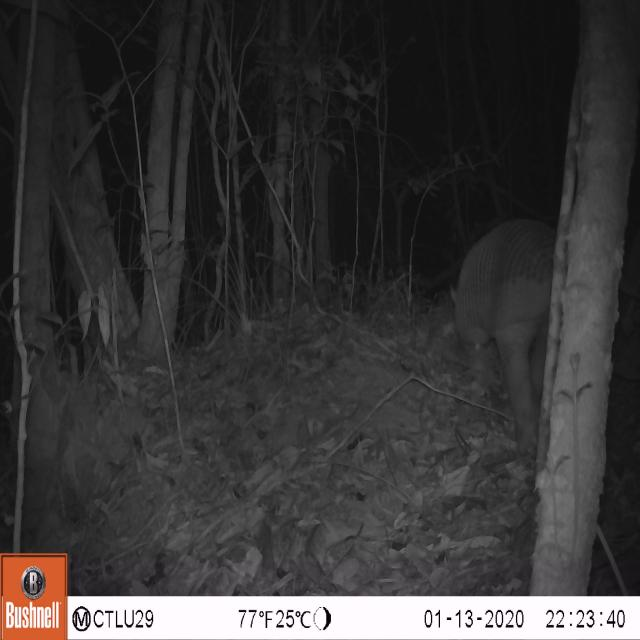Armadillo: (438, 200, 572, 475)
